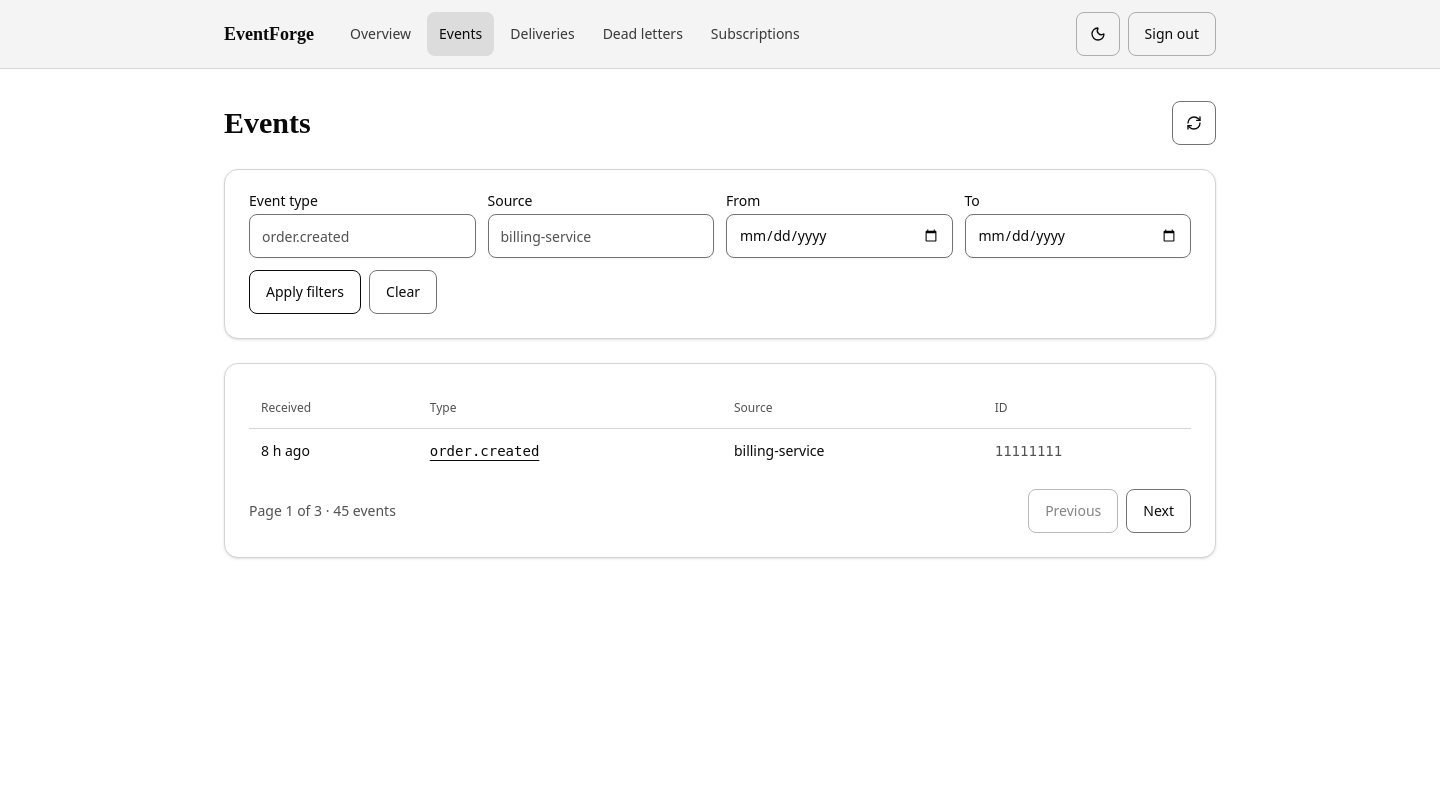
it: Events list › pages forward and back, and disables the buttons at the ends
Expected: the text "Page 1 of 3 · 45 events" is shown, left=249, top=500, right=396, bottom=520
Expected: the button "Previous" is disabled, left=1028, top=488, right=1118, bottom=532
Click the button "Next": (1159, 510) left=1126, top=488, right=1191, bottom=532
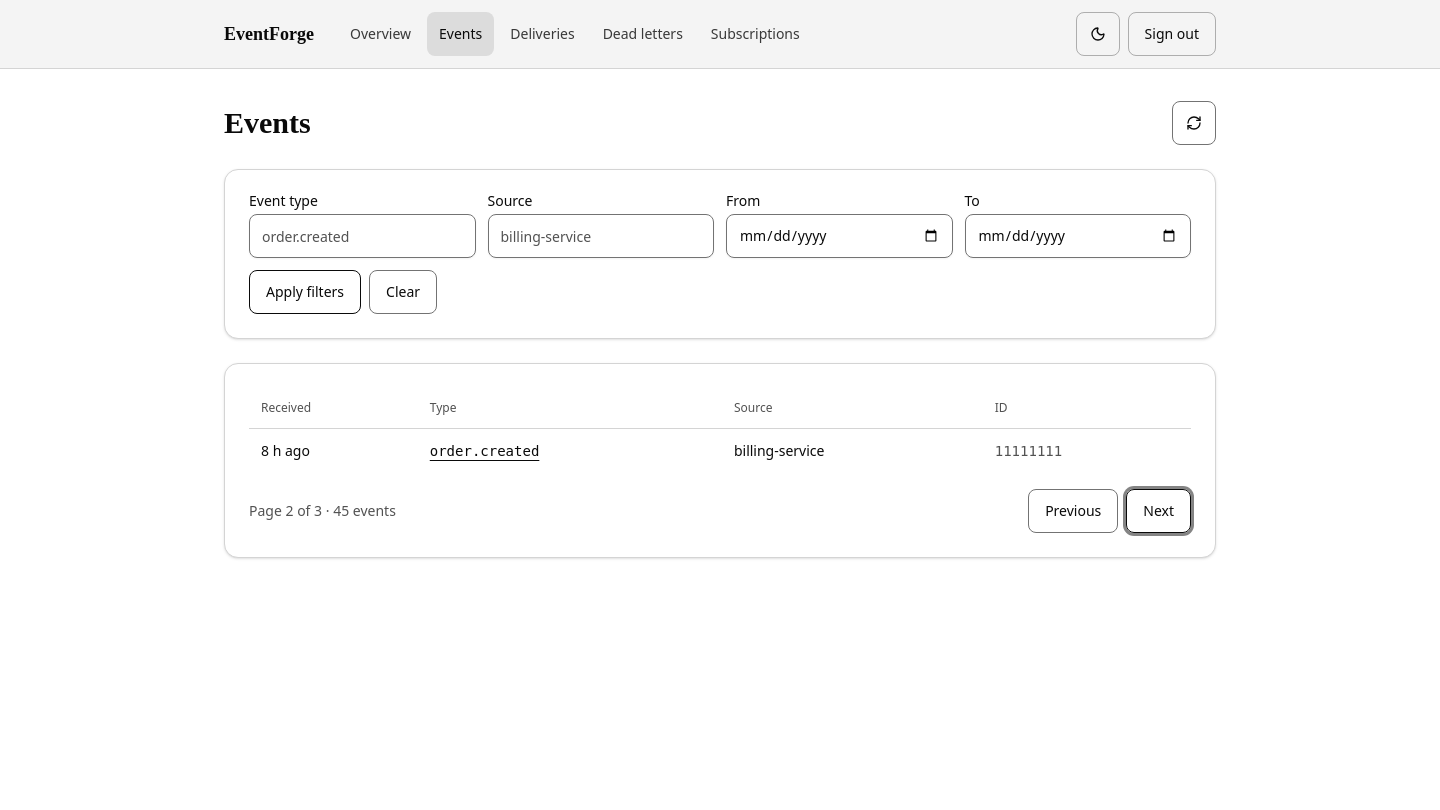
Now the text "Page 2 of 3 · 45 events" is shown, box left=249, top=500, right=396, bottom=520
Click the button "Next": (1159, 510) left=1126, top=488, right=1191, bottom=532
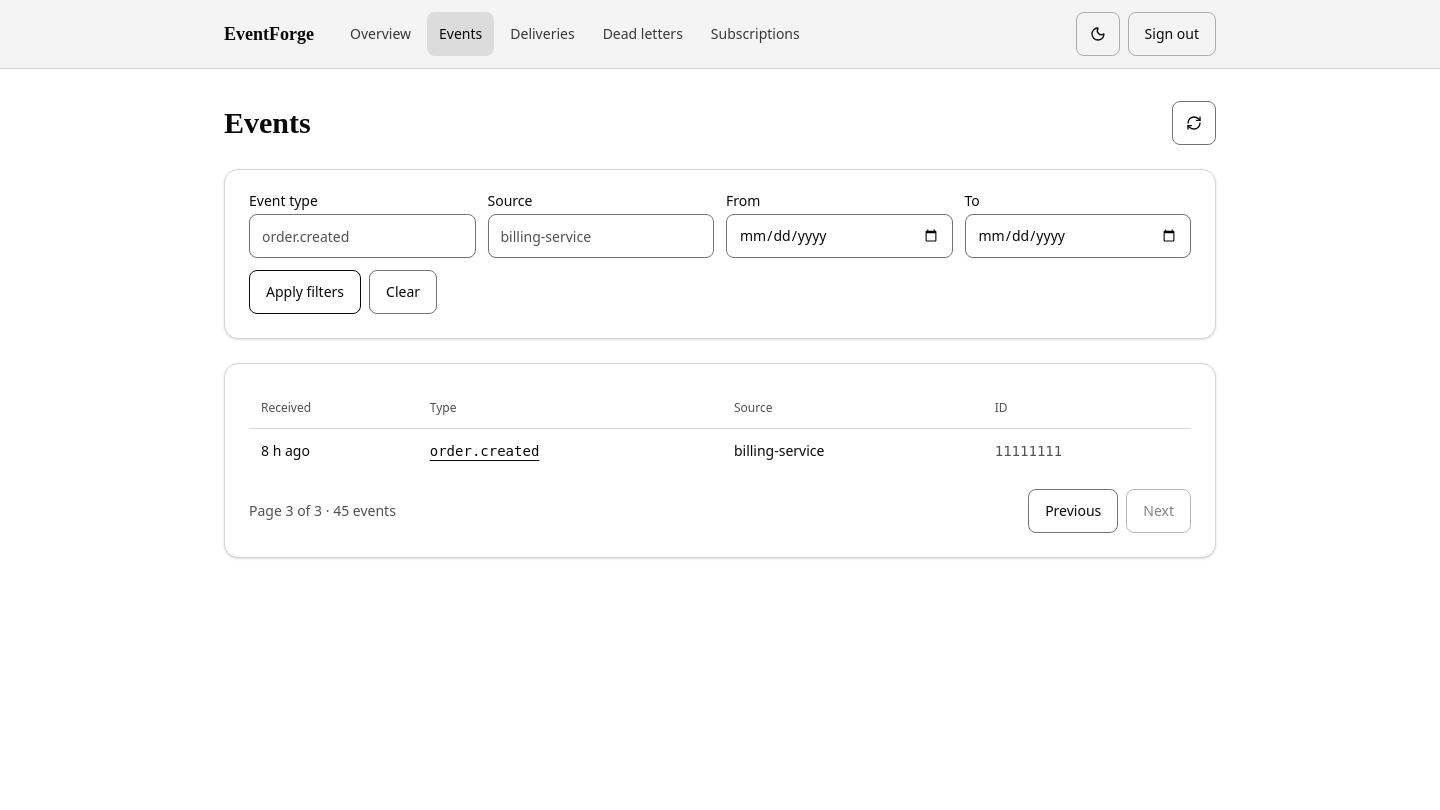
Now the text "Page 3 of 3 · 45 events" is shown, box left=249, top=500, right=396, bottom=520
Now the button "Next" is disabled, box left=1126, top=488, right=1191, bottom=532
Click the button "Previous": (1073, 510) left=1028, top=488, right=1118, bottom=532
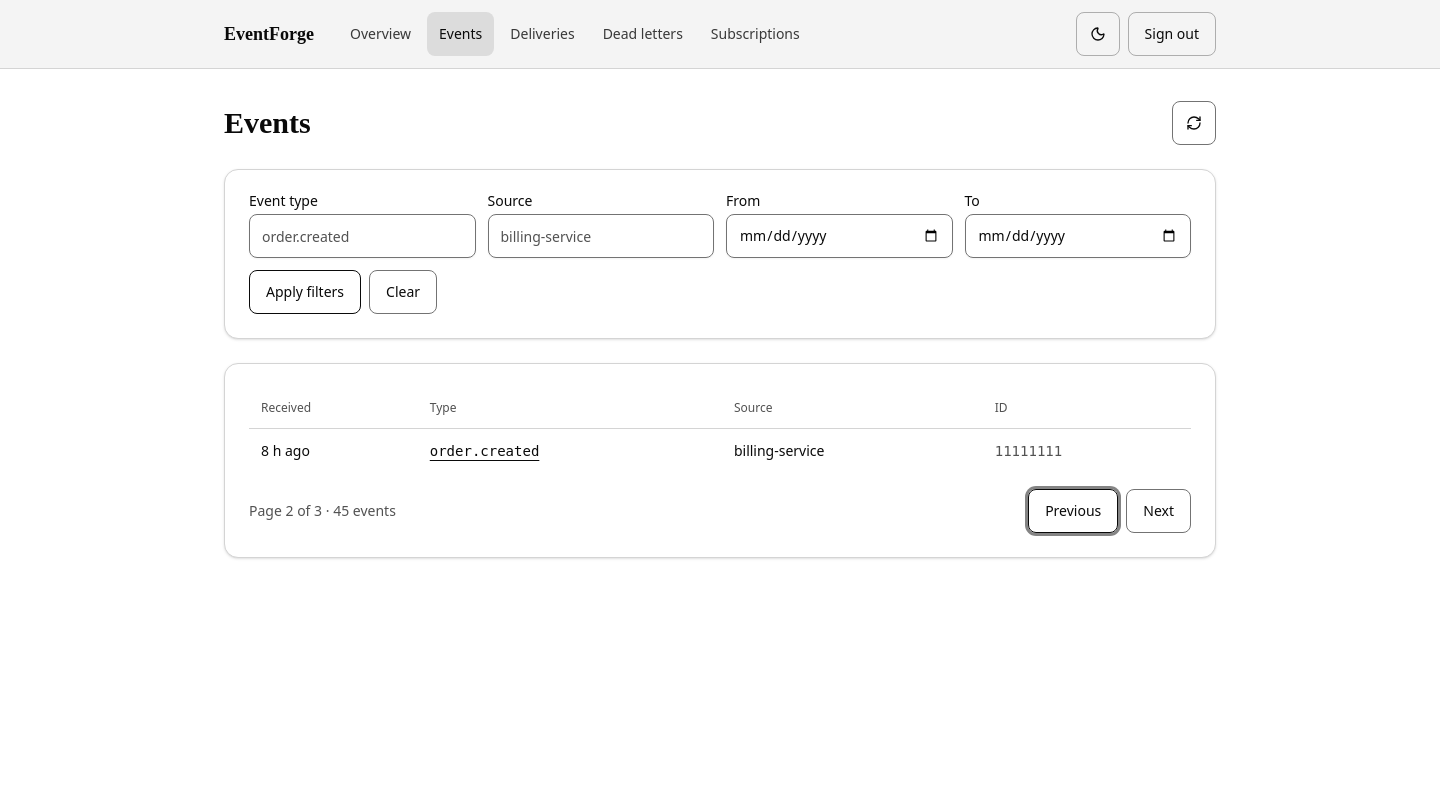
Now the text "Page 2 of 3 · 45 events" is shown, box left=249, top=500, right=396, bottom=520
